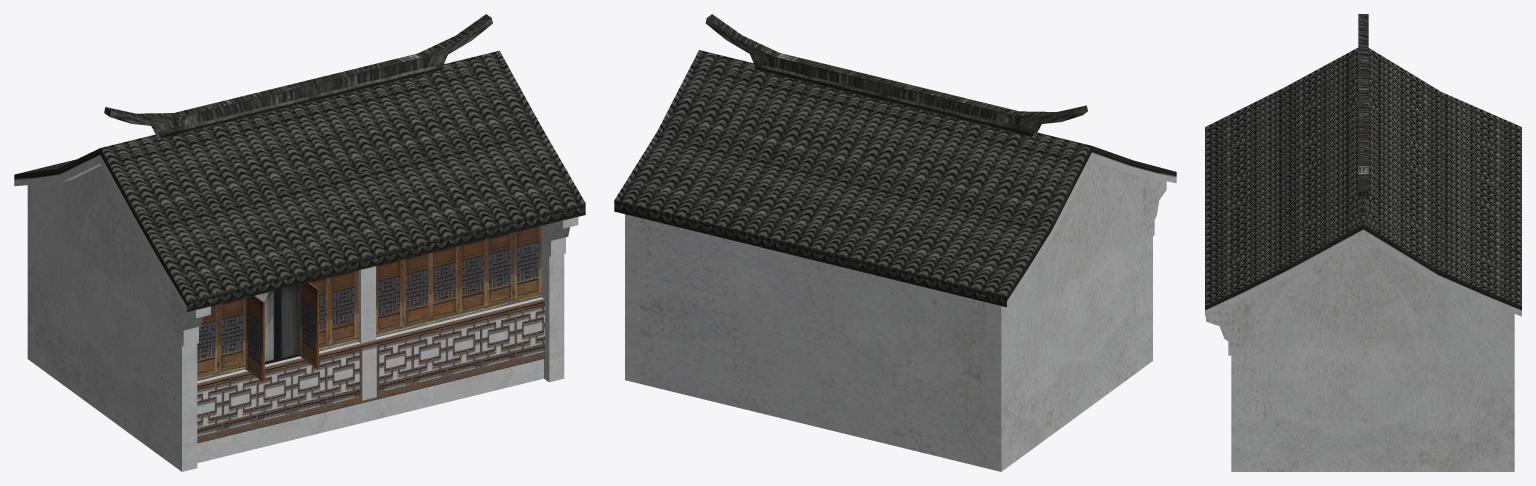
File: Building_MinJu04.FBX
3 views of the same model, side by side, from view 1: azimuth 30°, elevation 25°; view 2: azimuth 150°, elevation 25°; view 3: azimuth 270°, elevation 25° (orthographic). The views are drawn at different scales.
Visible parts, largest first — view 1: Object050; view 2: Object050; view 3: Object050.
Part boxes in pixels (x1,y1,x2,y2): Object050: [14, 14, 585, 471]; Object050: [614, 14, 1176, 471]; Object050: [1205, 14, 1521, 471].
Size of the model in its own units: 806 by 602 by 599.
